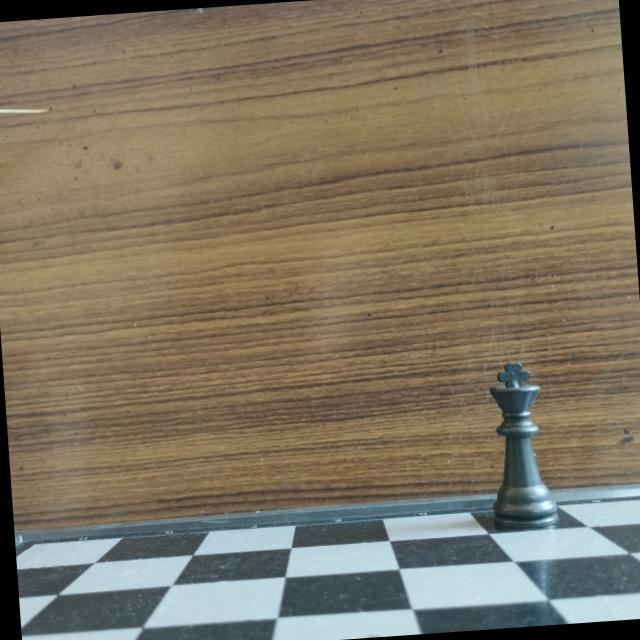Black King: (476, 354, 570, 534)
